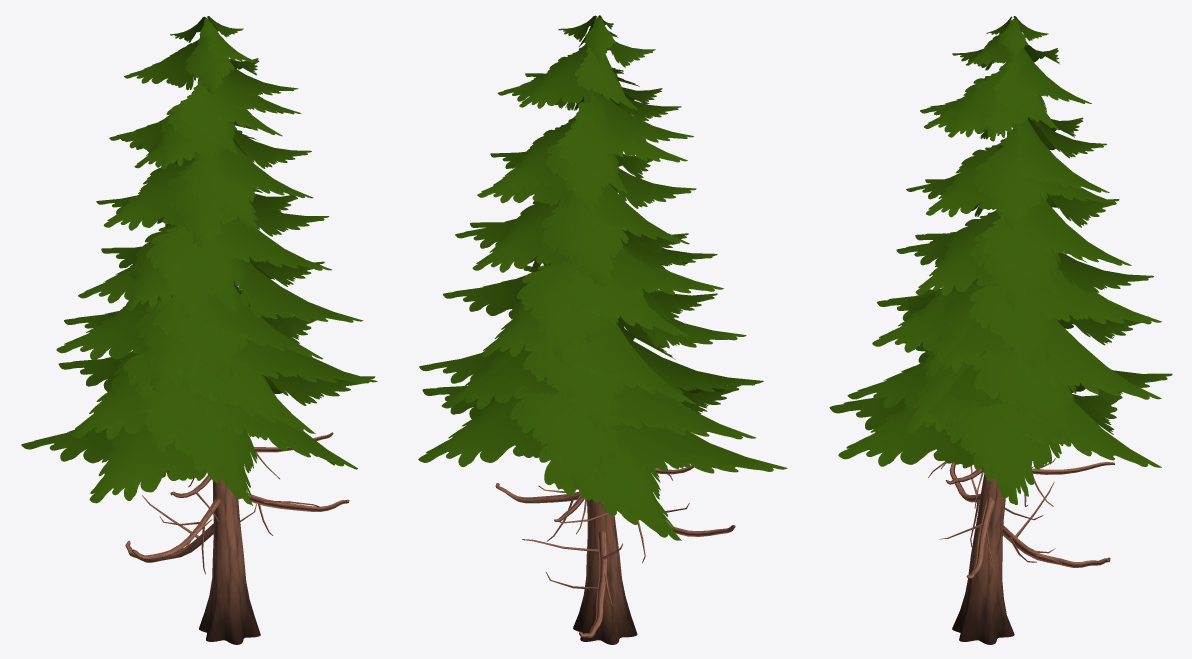
Rendered from pine2.glb.
3 views of the same model, side by side, from view 1: azimuth 30°, elevation 25°; view 2: azimuth 150°, elevation 25°; view 3: azimuth 270°, elevation 25° (orthographic). The views are drawn at different scales.
Parts seen in each view (by area): view 1: Pine_4; view 2: Pine_4; view 3: Pine_4.
Part boxes in pixels (x1=…): Pine_4: x1=21, y1=16, x2=377, y2=644; Pine_4: x1=418, y1=15, x2=787, y2=644; Pine_4: x1=829, y1=16, x2=1172, y2=644.
Size of the model in its own units: 5.8 by 10.24 by 5.37.
Materials: 2 (2 with a texture image).
